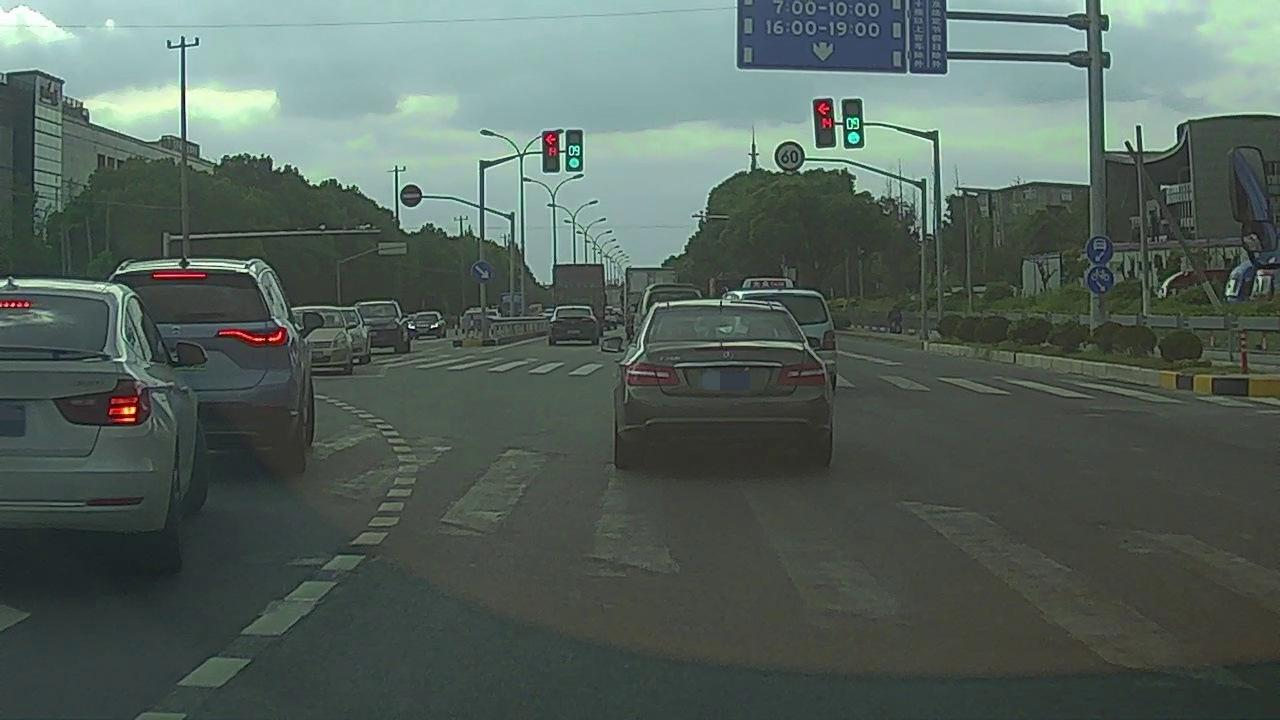traffic_light: (812, 97, 837, 147), (842, 100, 863, 147), (566, 129, 584, 171), (544, 132, 559, 171)
